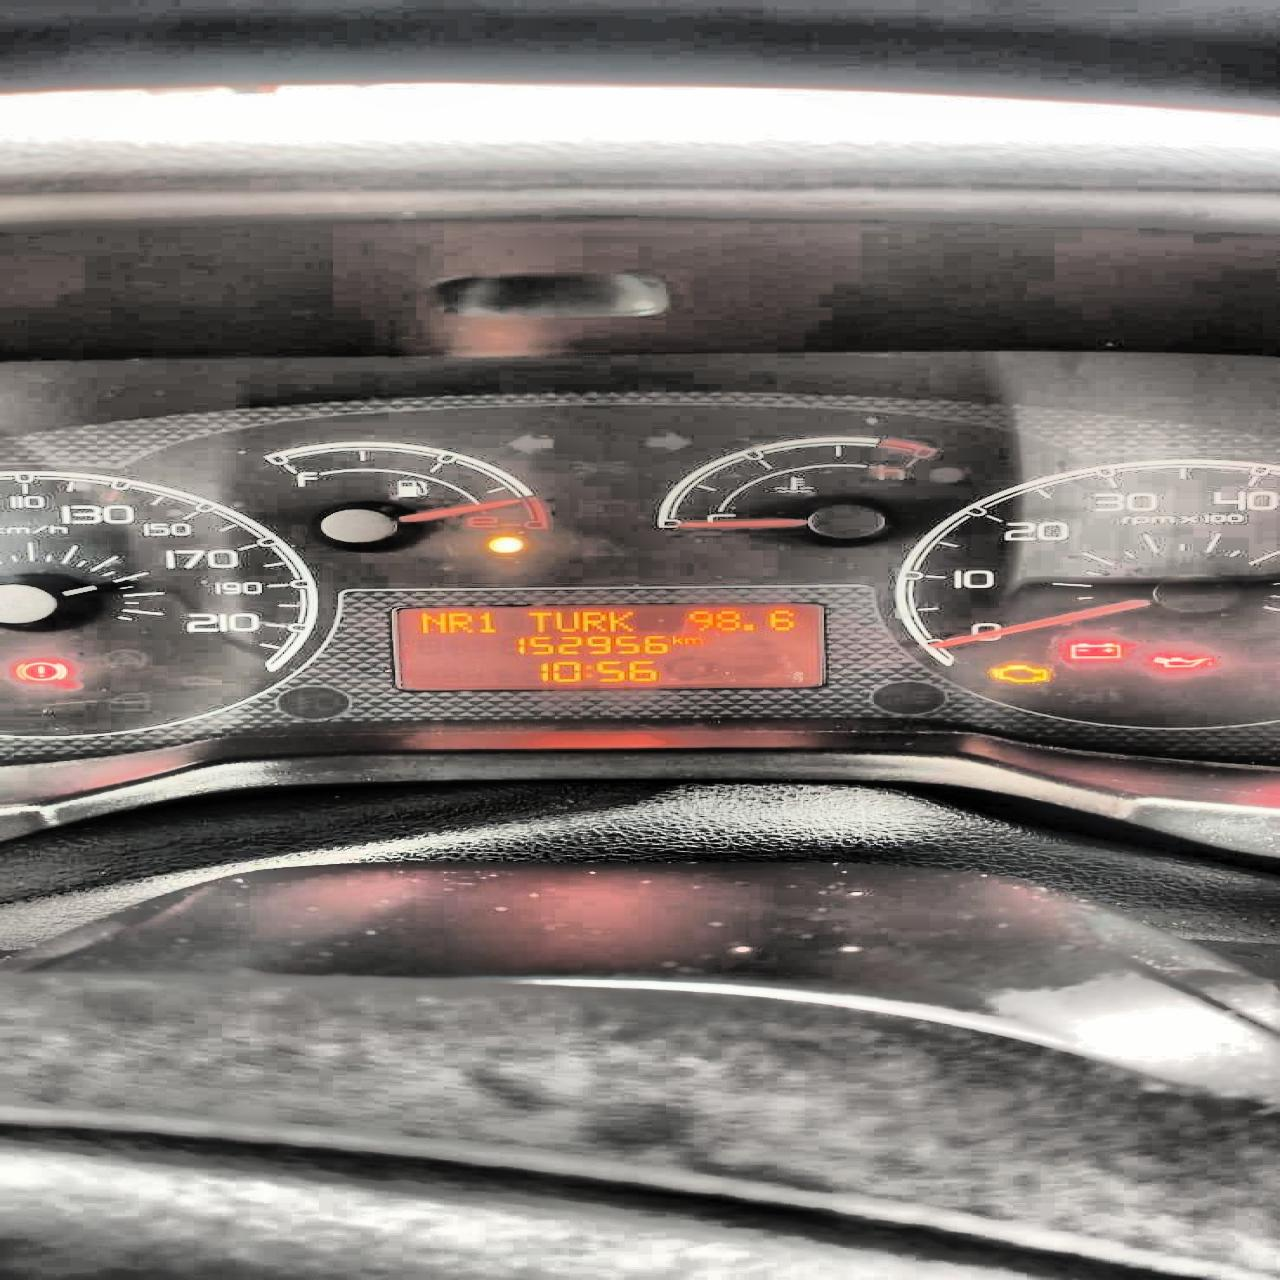-: (741, 622, 756, 631)
0: (552, 660, 581, 682)
1: (475, 611, 498, 634), (513, 635, 527, 656), (536, 660, 549, 682)
2: (554, 634, 583, 654)
5: (593, 660, 625, 682), (527, 634, 553, 655), (614, 635, 640, 654)
6: (625, 660, 658, 682), (767, 608, 796, 632), (641, 634, 667, 654)
8: (713, 610, 741, 632)
9: (685, 610, 713, 632), (585, 634, 611, 654)
X: (607, 610, 636, 632), (418, 611, 445, 633), (525, 611, 551, 633), (551, 611, 578, 632), (579, 611, 606, 632), (448, 611, 471, 633), (683, 636, 704, 646), (669, 634, 683, 646), (583, 665, 591, 678)
odometer: (380, 597, 829, 693)
